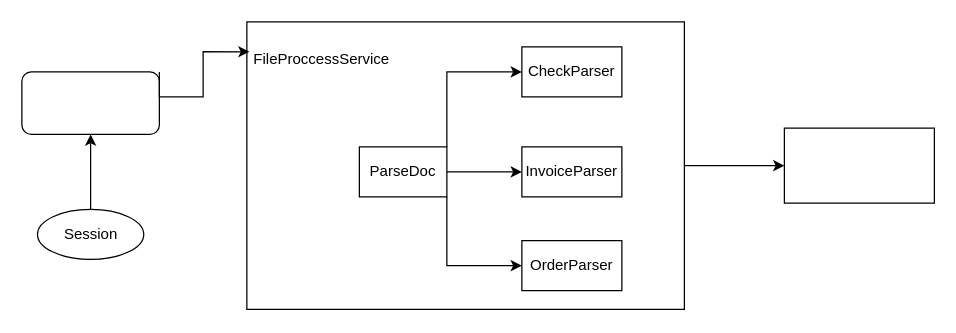
Some shapes in this 956 by 333 pixel diagram are drawn without their labels. Each missing label, with the box of its shape:
AuthorizationService: (21, 71, 159, 134)
ReportGenerator: (783, 127, 934, 203)
